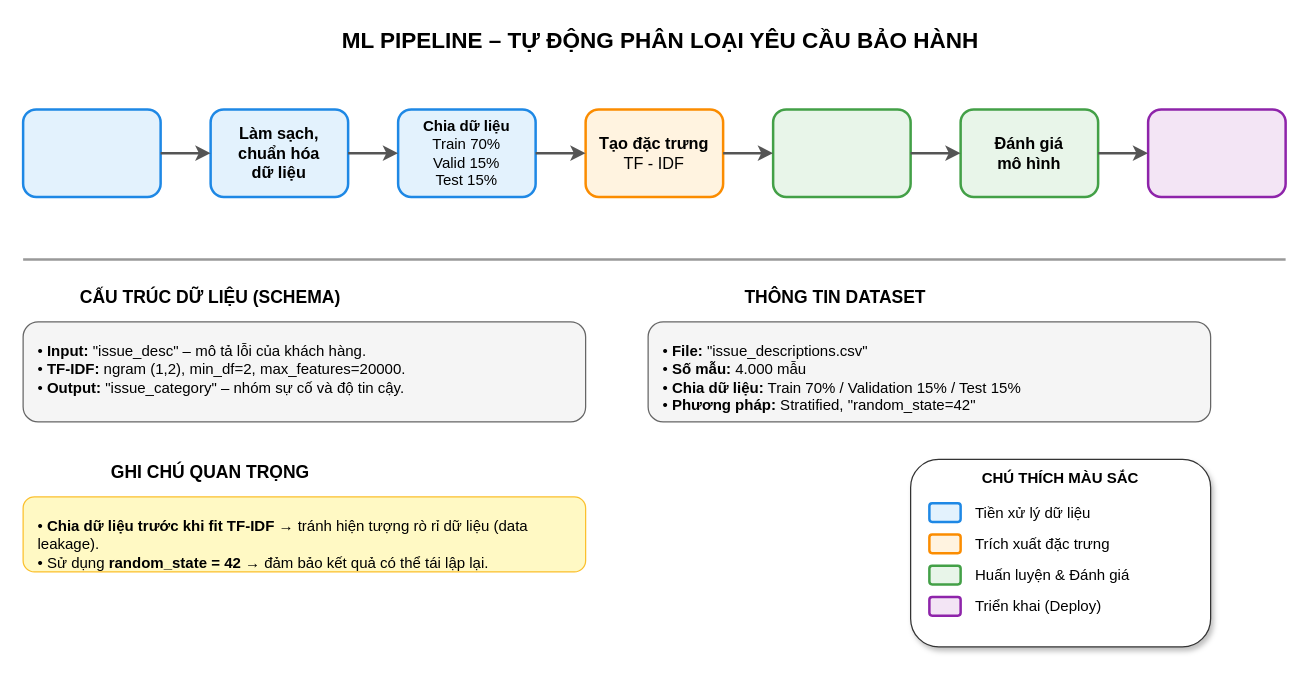
The diagram is 1309 pixels wide and 678 high, and some of its shapes have lost their labels. The shapes that lost their labels are listed below. From the top down, each one's centre as x and y in pixels, then its label:
At (x=91, y=153): "Nạp dữ liệu".
At (x=841, y=153): "Huấn luyện mô hình".
At (x=1216, y=153): "Phục vụ (Deploy)".
